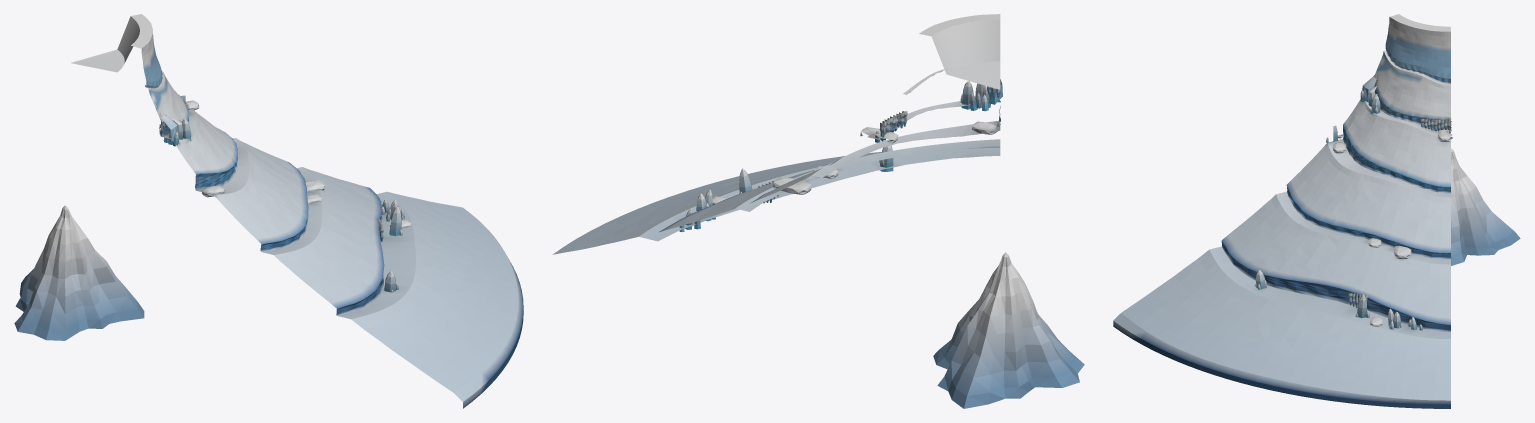
File: glacier-s2-Do9SxZjx.glb
3 views of the same model, side by side, from view 1: azimuth 30°, elevation 25°; view 2: azimuth 150°, elevation 25°; view 3: azimuth 270°, elevation 25° (orthographic). The views are drawn at different scales.
Parts seen in each view (by area): view 1: sc_landmark_5, sc_peak_2; view 2: sc_landmark_5, sc_peak_2; view 3: sc_landmark_5, sc_peak_2.
Part boxes in pixels (box(x1,y1,x2,y2)): sc_landmark_5: box(71, 14, 523, 408); sc_peak_2: box(14, 205, 144, 340); sc_landmark_5: box(552, 14, 1002, 254); sc_peak_2: box(933, 252, 1084, 408); sc_landmark_5: box(1113, 14, 1452, 408); sc_peak_2: box(1451, 148, 1520, 265).
Bounding box in the file's own units: 481 × 286 × 435.
